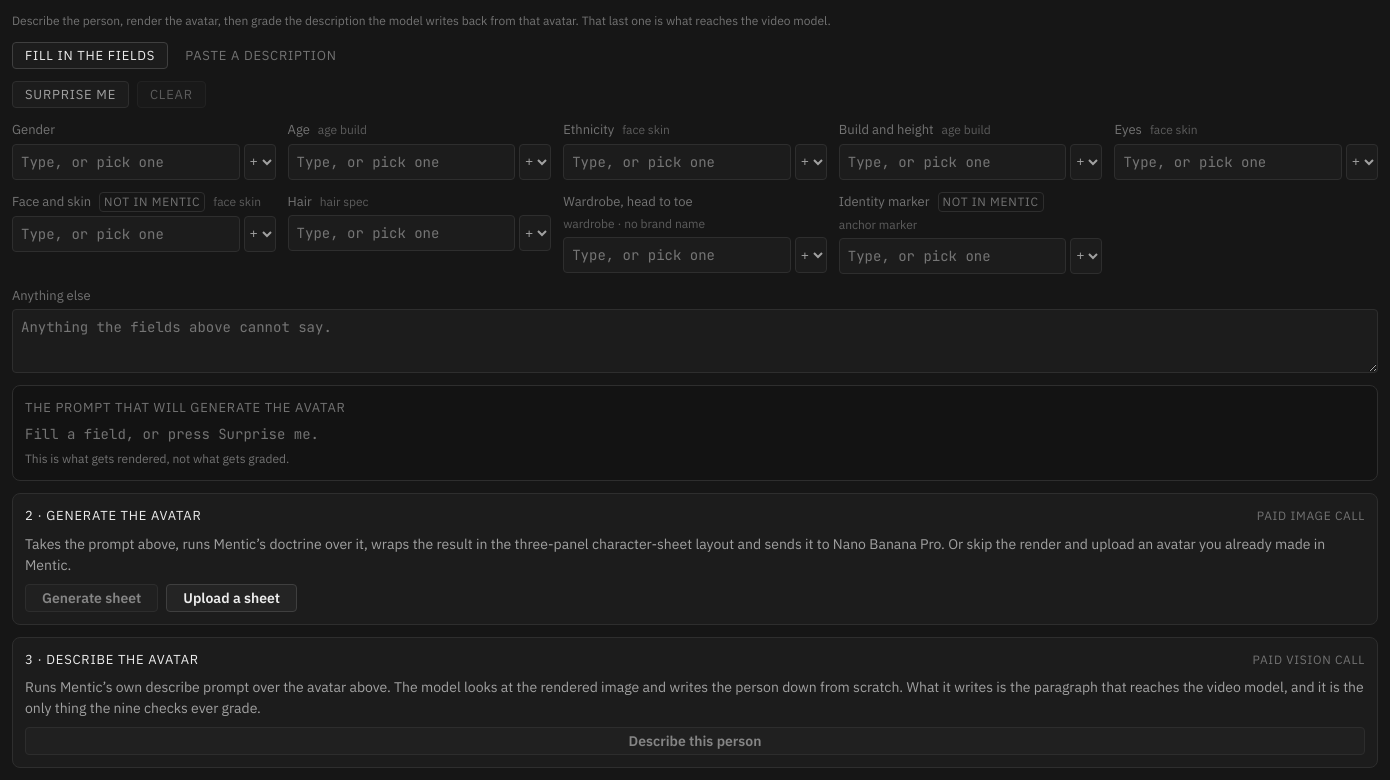
AvatarComposer › fills the form from the suggestions menu, then resets the menu to its placeholder
Step 1. Select "hazel" in the dropdown named "Suggestions for Eyes" → (1362, 162), box top-left (1346, 144), bottom-right (1378, 180)
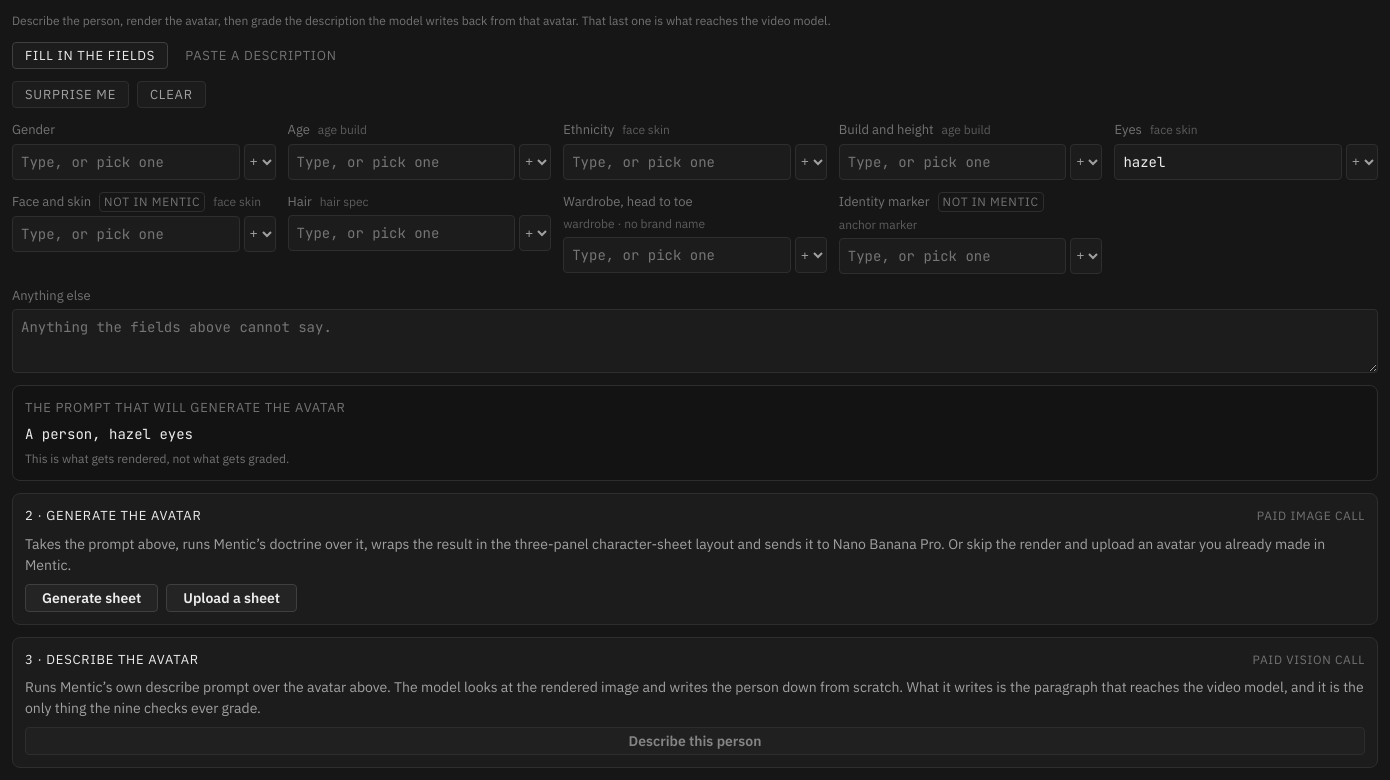
Now the field labelled "Eyes" holds "hazel", box top-left (1114, 144), bottom-right (1342, 180)
